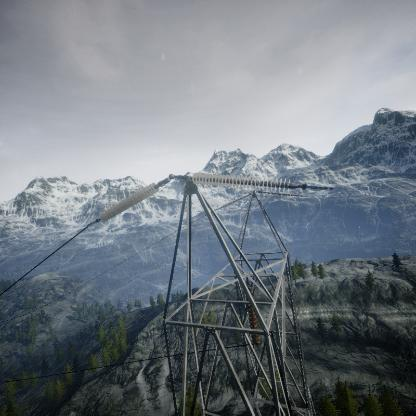insulator: (97, 180, 162, 223), (189, 173, 308, 193), (246, 302, 261, 347), (222, 193, 251, 209)
